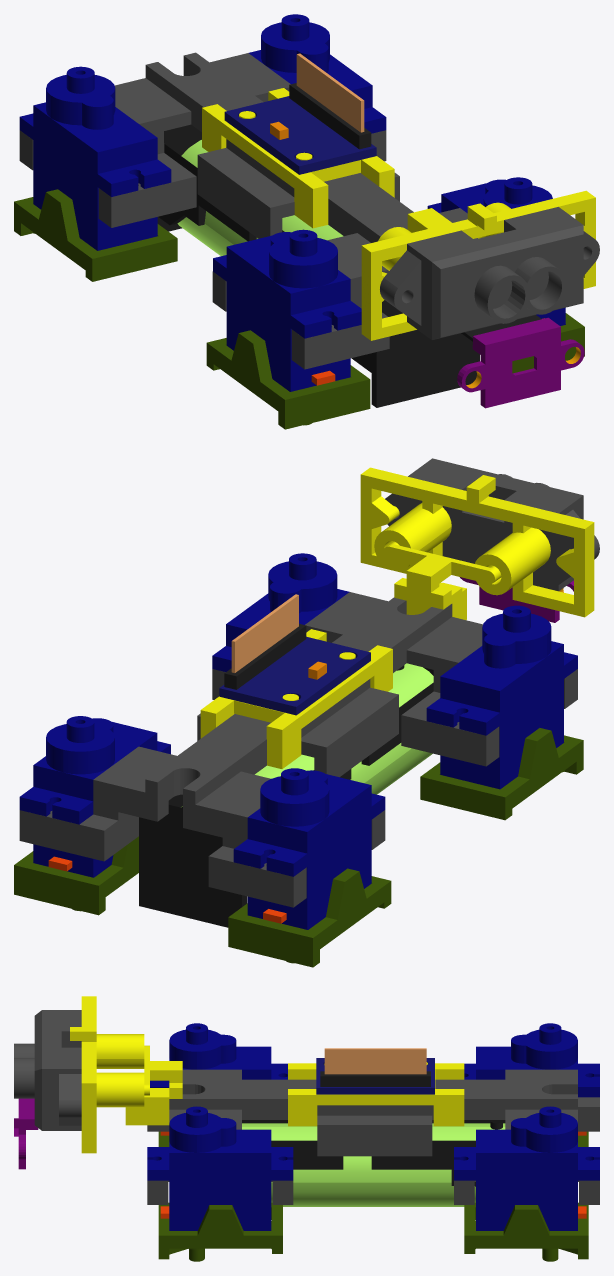
Rendered from chasis.glb.
3 renders of one model, top to bottom at view 1: azimuth 30°, elevation 25°; view 2: azimuth 150°, elevation 25°; view 3: azimuth 270°, elevation 25°, orthographic. The views are drawn at different scales.
Visible parts, largest first — view 1: 9g Servo (×4), object 3, root, MPU9250, object 5, ToF Sensor, TFMini-s adapter, object 13, object 15, object 4, 18650 Cell, object 10 (+1 smaller); view 2: 9g Servo (×4), object 3, TFMini-s adapter, MPU9250, object 5, root, object 15, object 13, object 4, object 14, object 8, 18650 Cell (+1 smaller); view 3: 9g Servo (×4), object 3, 18650 Cell, root, TFMini-s adapter, MPU9250, object 4, object 10, object 14, object 5, object 8, ToF Sensor.
Part boxes in pixels (<box>): 9g Servo (×4): <box>19,14,565,391</box>; object 3: <box>19,52,477,369</box>; root: <box>380,207,599,339</box>; MPU9250: <box>224,53,376,174</box>; object 5: <box>157,124,479,407</box>; ToF Sensor: <box>457,315,584,408</box>; TFMini-s adapter: <box>361,190,595,340</box>; object 13: <box>206,330,370,429</box>; object 15: <box>14,189,177,281</box>; object 4: <box>202,88,394,228</box>; 18650 Cell: <box>177,140,343,256</box>; object 10: <box>512,313,584,373</box>; 9g Servo (×4): <box>19,553,577,929</box>; object 3: <box>19,592,577,907</box>; TFMini-s adapter: <box>360,467,594,617</box>; MPU9250: <box>219,594,370,715</box>; object 5: <box>139,665,433,927</box>; root: <box>385,458,599,591</box>; object 15: <box>228,868,391,967</box>; object 13: <box>420,728,583,820</box>; object 4: <box>200,629,392,768</box>; object 14: <box>14,836,138,915</box>; object 8: <box>383,541,501,619</box>; 18650 Cell: <box>181,663,433,807</box>; 9g Servo (×4): <box>147,1023,599,1230</box>; object 3: <box>147,1069,599,1204</box>; 18650 Cell: <box>242,1123,505,1206</box>; root: <box>14,1010,81,1130</box>; TFMini-s adapter: <box>70,996,144,1153</box>; MPU9250: <box>316,1048,434,1094</box>; object 4: <box>288,1062,464,1126</box>; object 10: <box>158,1202,282,1261</box>; object 14: <box>464,1202,588,1261</box>; object 5: <box>242,1120,505,1186</box>; object 8: <box>125,1045,182,1125</box>; ToF Sensor: <box>14,1098,38,1169</box>.
Size of the model in its own units: 0.0606 by 0.0456 by 0.1292.
